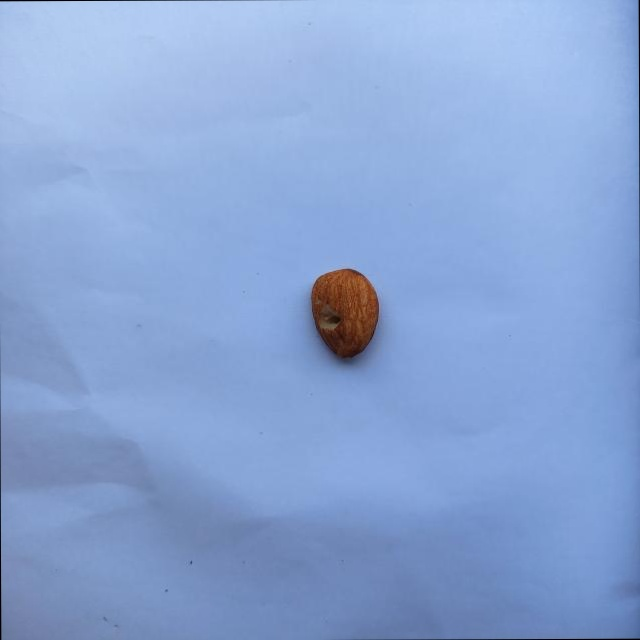grade3: (306, 264, 381, 363)
